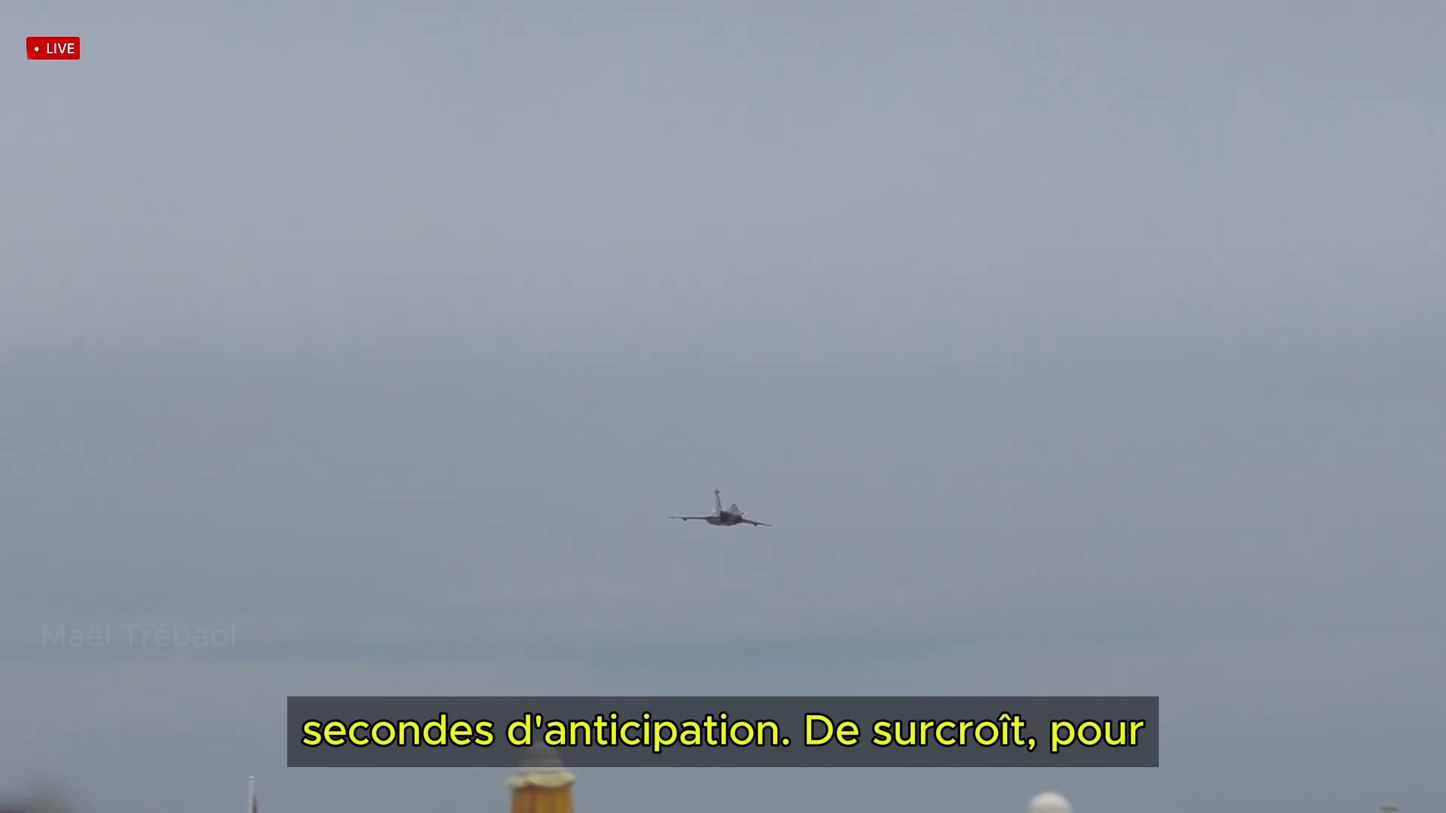Rafale: (666, 489, 772, 529)
